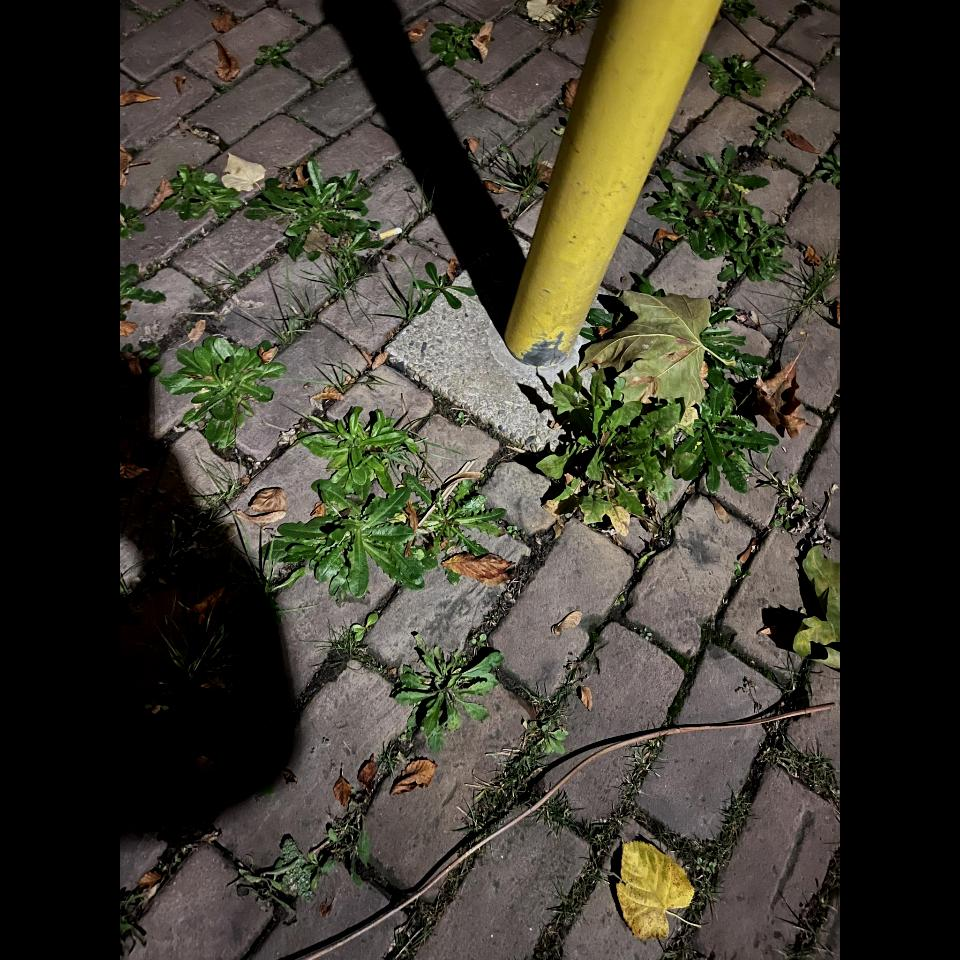weed: (538, 369, 684, 535), (271, 475, 435, 599), (459, 676, 576, 835), (649, 146, 785, 281), (533, 782, 633, 957), (388, 627, 506, 755), (160, 336, 285, 448), (245, 159, 381, 259), (673, 369, 778, 493), (300, 407, 420, 500), (671, 783, 756, 906), (419, 480, 504, 557), (760, 728, 840, 799), (315, 795, 369, 886), (150, 510, 213, 585), (303, 240, 370, 308), (160, 165, 242, 220), (164, 626, 237, 682), (409, 262, 475, 318), (264, 836, 319, 900), (491, 146, 553, 200), (120, 264, 165, 336), (700, 53, 767, 98), (260, 300, 312, 345), (430, 22, 480, 68), (255, 40, 292, 68), (663, 934, 694, 960)
